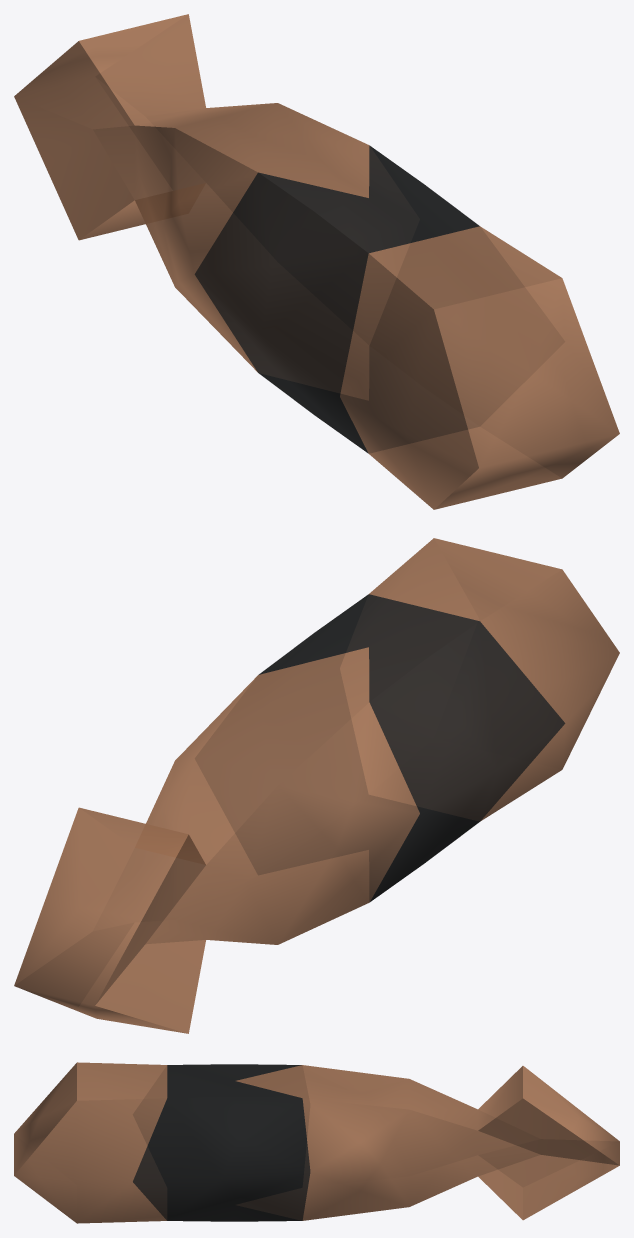
Rendered from fish.fbx.
3 renders of one model, top to bottom at view 1: azimuth 30°, elevation 25°; view 2: azimuth 150°, elevation 25°; view 3: azimuth 270°, elevation 25°, orthographic. The views are drawn at different scales.
Visible parts, largest first — view 1: pCube1; view 2: pCube1; view 3: pCube1.
Part boxes in pixels (bbox=[...]): pCube1: bbox=[14, 14, 619, 509]; pCube1: bbox=[14, 538, 619, 1033]; pCube1: bbox=[14, 1062, 619, 1223].
Bounding box in the file's own units: 1.23 × 1.02 × 4.48.
